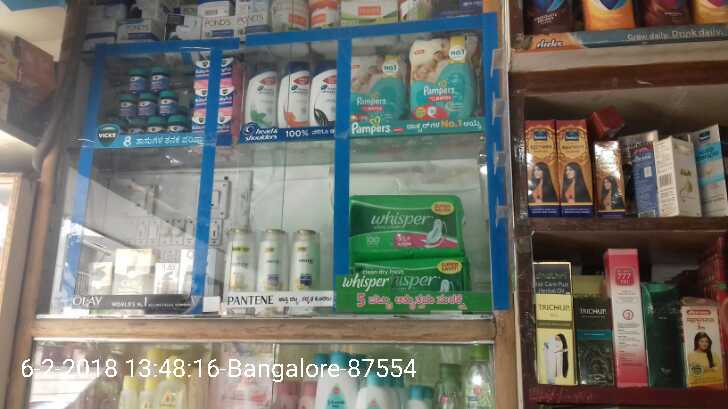beauty: (255, 231, 289, 312), (223, 227, 255, 311), (289, 229, 319, 311), (111, 252, 153, 298), (84, 262, 110, 297)
pharmacy: (341, 195, 463, 256), (347, 258, 469, 309), (409, 36, 477, 124), (337, 48, 403, 126), (133, 96, 157, 122), (125, 68, 147, 96), (148, 67, 170, 95), (155, 95, 177, 119), (191, 60, 212, 82)
